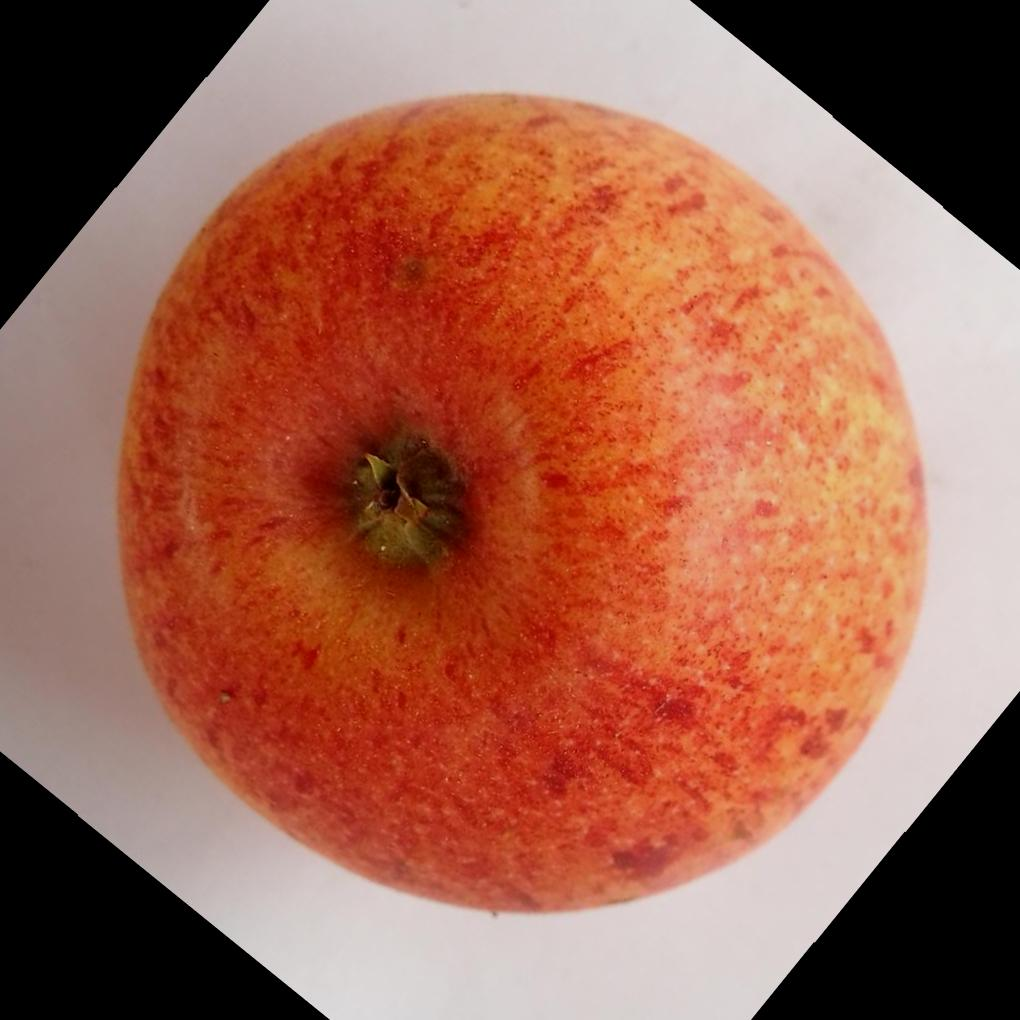FreshGuava: (116, 91, 934, 920)
